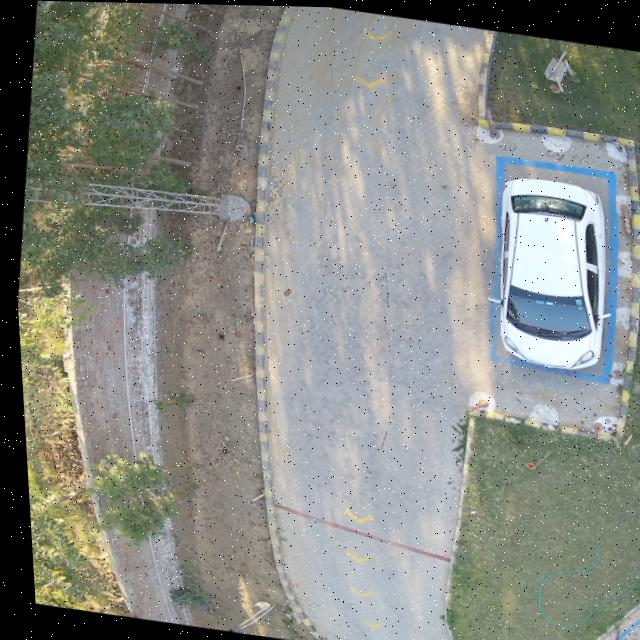car: (496, 173, 602, 366)
